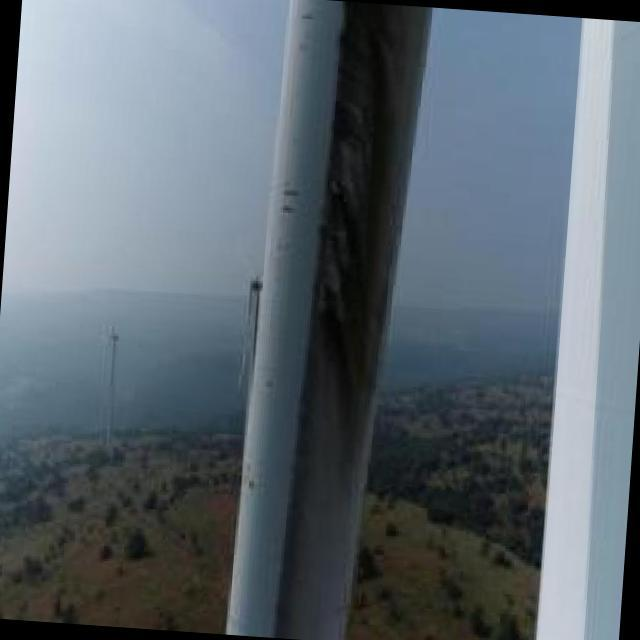Dirt: (266, 6, 444, 640)
Pin Hole: (320, 222, 337, 240)
